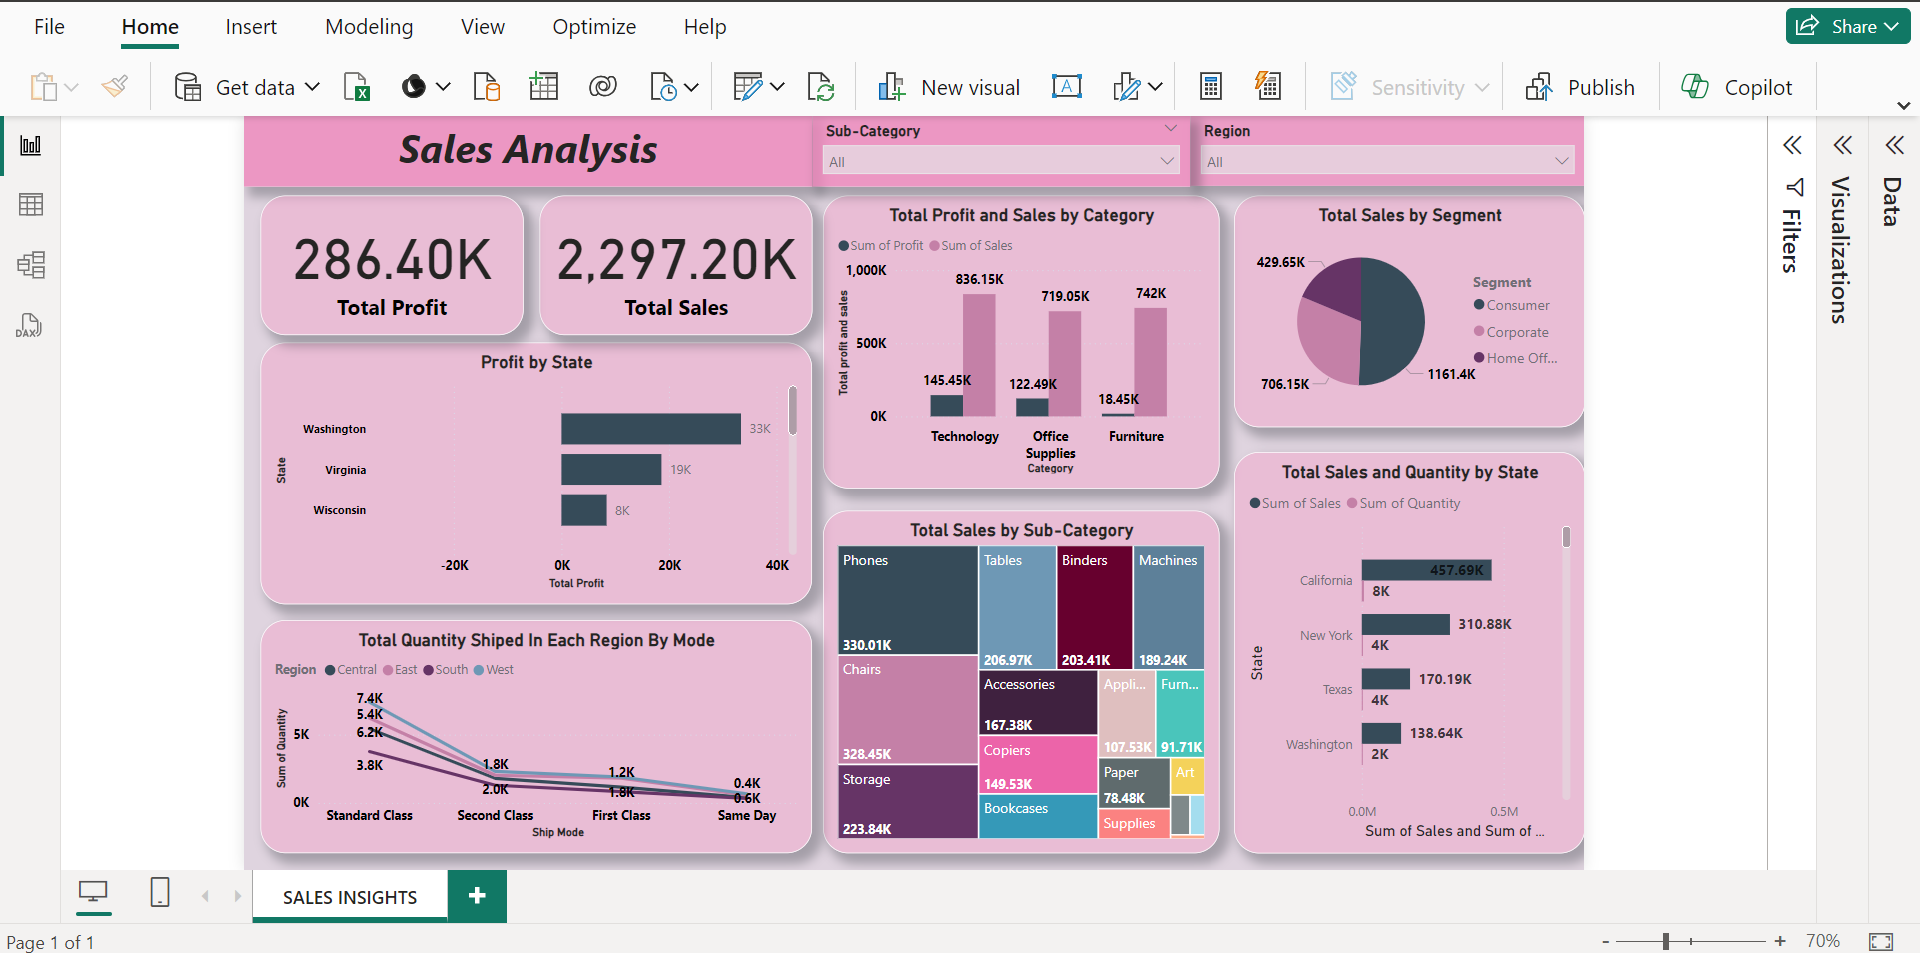

This screenshot's page, from the dashboard's own definition file:
{"tool":"powerbi","page":{"name":"SALES INSIGHTS","canvas":[1280,720],"ordinal":0},"visuals":[{"type":"textbox","box":[0,0,521.7,66.8],"z":0},{"type":"clusteredColumnChart","title":"Total Profit and Sales by Category","fields":{"Category":["SampleSuperstore.Category"],"Y":["Sum(SampleSuperstore.Profit)","Sum(SampleSuperstore.Sales)"]},"box":[553.5,76.3,378.6,279.9],"z":1000},{"type":"clusteredBarChart","title":"Profit by State","fields":{"Category":["SampleSuperstore.State"],"Y":["Sum(SampleSuperstore.Profit)"]},"box":[15.9,216.3,526.5,249.7],"z":2000},{"type":"pieChart","title":"Total Sales by Segment","fields":{"Category":["SampleSuperstore.Segment"],"Y":["Sum(SampleSuperstore.Sales)"]},"box":[944.8,76.3,335.6,221.1],"z":3000},{"type":"treemap","title":"Total Sales by Sub-Category","fields":{"Group":["SampleSuperstore.Sub-Category"],"Values":["Sum(SampleSuperstore.Sales)"]},"box":[553.5,377,378.6,327.7],"z":4000},{"type":"card","fields":{"Values":["Sum(SampleSuperstore.Sales)"]},"box":[281.5,76.3,260.9,133.6],"z":5000},{"type":"card","fields":{"Values":["Sum(SampleSuperstore.Profit)"]},"box":[15.9,76.3,251.3,133.6],"z":6000},{"type":"slicer","fields":{"Values":["SampleSuperstore.Region"]},"box":[903.5,0,377,66.8],"z":7000},{"type":"slicer","fields":{"Values":["SampleSuperstore.Sub-Category"]},"box":[542.4,0,349.9,66.8],"z":8000},{"type":"lineChart","title":"Total Quantity Shiped In Each Region By Mode","fields":{"Y":["Sum(SampleSuperstore.Quantity)"],"Category":["SampleSuperstore.Ship Mode"],"Series":["SampleSuperstore.Region"]},"box":[15.9,482,526.5,222.7],"z":9000},{"type":"clusteredBarChart","title":"Total Sales and Quantity by State","fields":{"Category":["SampleSuperstore.State"],"Y":["Sum(SampleSuperstore.Sales)","Sum(SampleSuperstore.Quantity)"]},"box":[944.8,321.3,335.6,383.3],"z":10000}]}

Visuals, with their boxes on the page's 1280x720 design canvas (x1, y1, x2, y2). These are canvas units, not pixel positions in the 1920x953 screenshot, which may show the page scaled, cropped or inside an application window:
textbox: (left=0, top=0, right=522, bottom=67)
"Total Profit and Sales by Category" clusteredColumnChart: (left=554, top=76, right=932, bottom=356)
"Profit by State" clusteredBarChart: (left=16, top=216, right=542, bottom=466)
"Total Sales by Segment" pieChart: (left=945, top=76, right=1280, bottom=297)
"Total Sales by Sub-Category" treemap: (left=554, top=377, right=932, bottom=705)
card - Sum(SampleSuperstore.Sales): (left=282, top=76, right=542, bottom=210)
card - Sum(SampleSuperstore.Profit): (left=16, top=76, right=267, bottom=210)
slicer - SampleSuperstore.Region: (left=904, top=0, right=1280, bottom=67)
slicer - SampleSuperstore.Sub-Category: (left=542, top=0, right=892, bottom=67)
"Total Quantity Shiped In Each Region By Mode" lineChart: (left=16, top=482, right=542, bottom=705)
"Total Sales and Quantity by State" clusteredBarChart: (left=945, top=321, right=1280, bottom=705)
